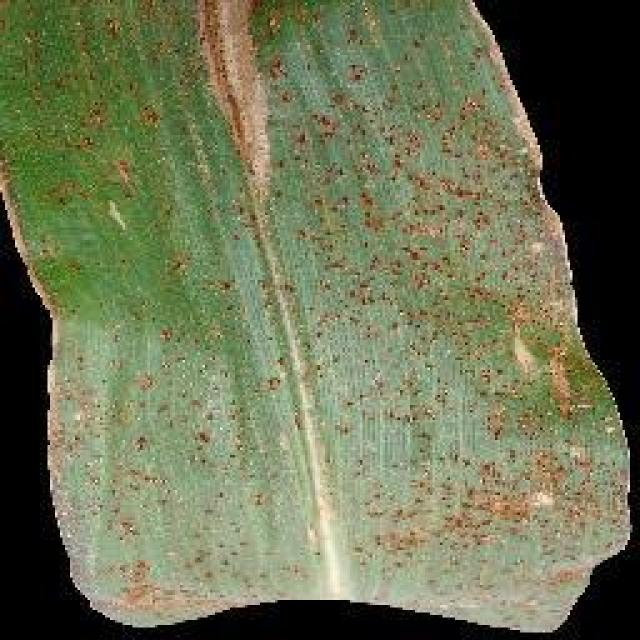Corn Common Rust: (98, 65, 522, 585)
